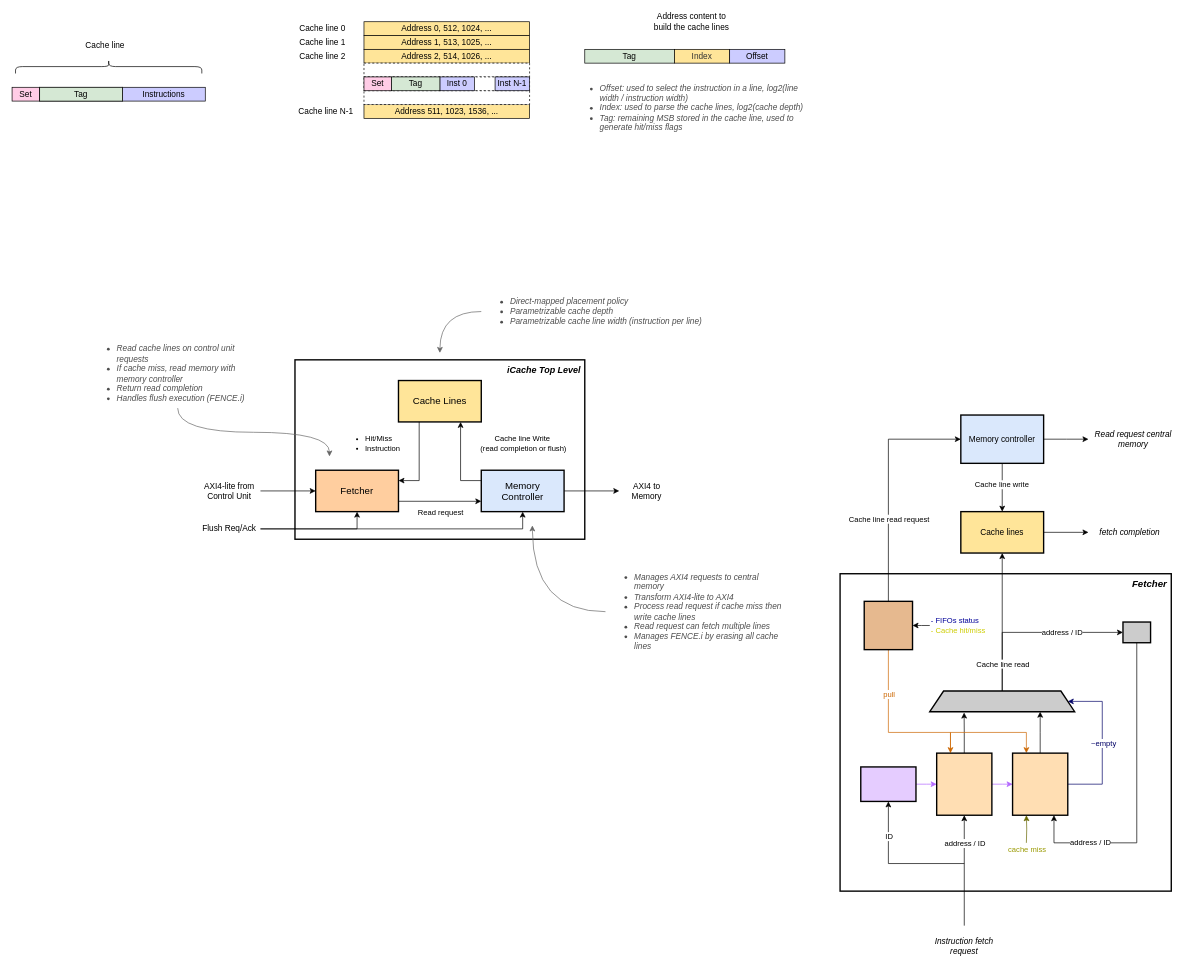
Image size: 1190x979. Some labels were removed from this diagram. The shapes that lost their labels are listed below. From the top down, each one's centre as x and y in pixels, then its label:
[888,625]: Sequencer
[1136,632]: FFD
[1002,701]: Addr/ID multiplexer
[888,784]: FIFO Reboot
[964,784]: To-Fetch FIFO
[1040,784]: Miss-Fetched FIFO
